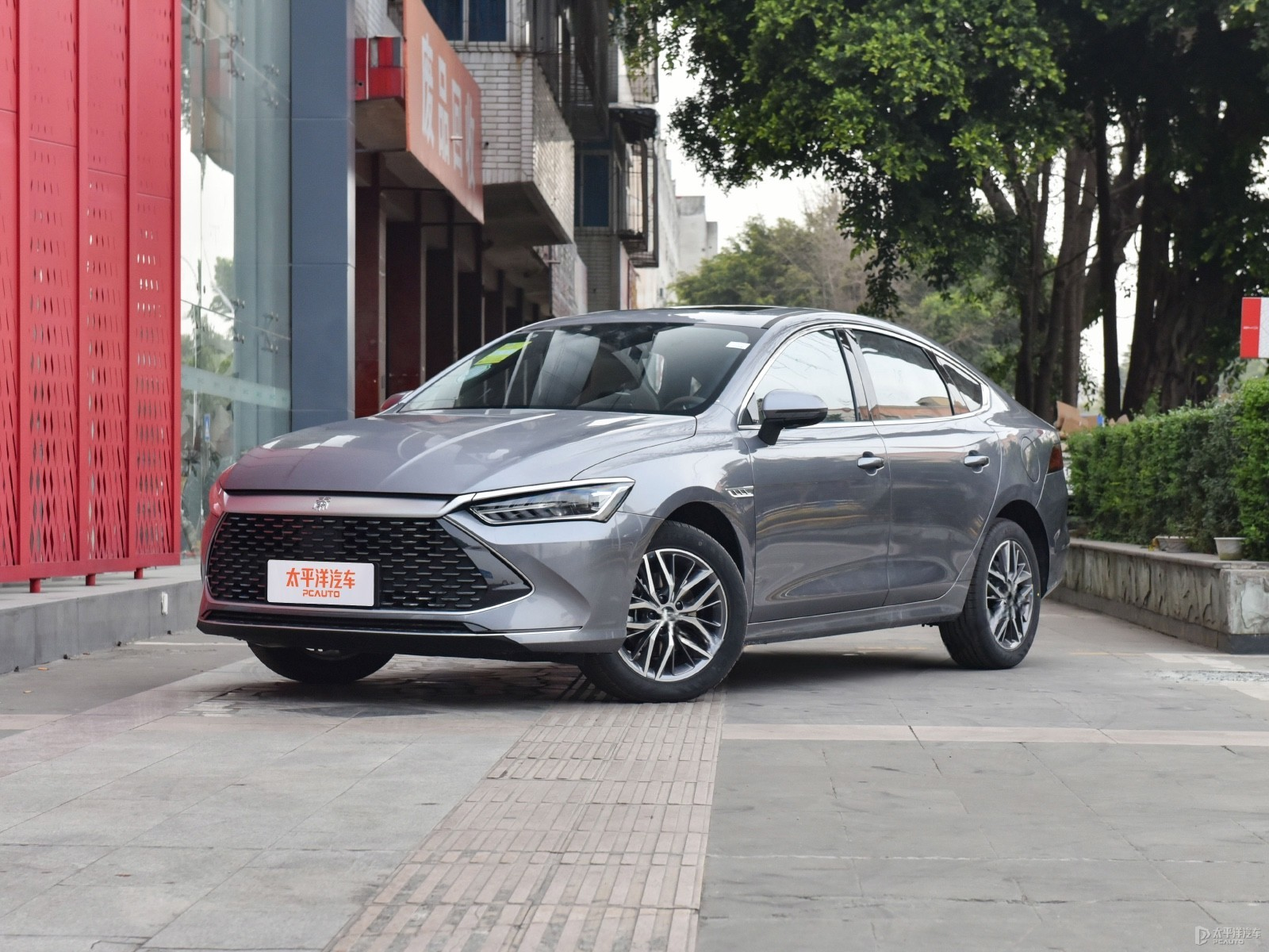BYD Qin: (312, 496, 331, 511)
